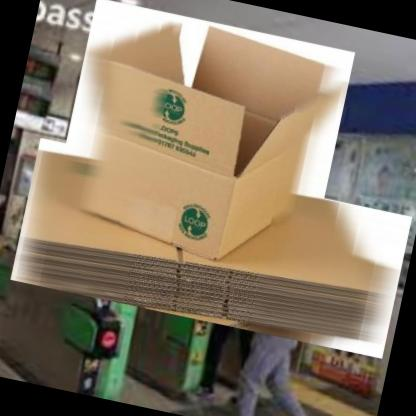box: (3, 134, 416, 362), (44, 0, 359, 281)
